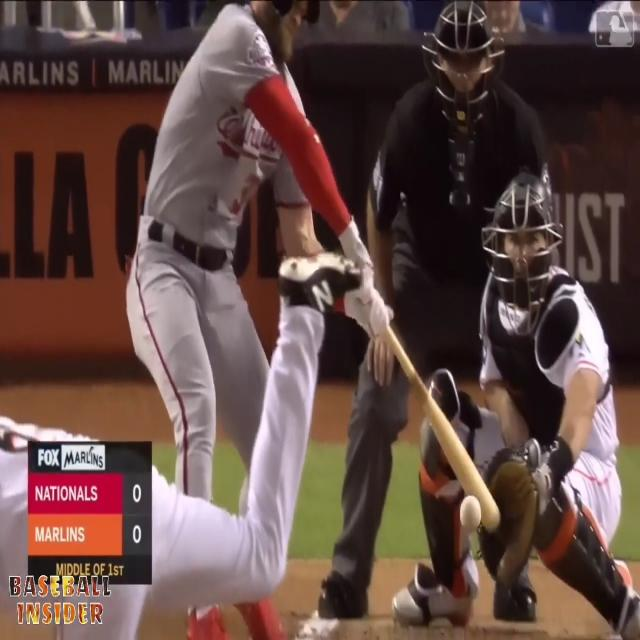baseball: (460, 494, 482, 532)
